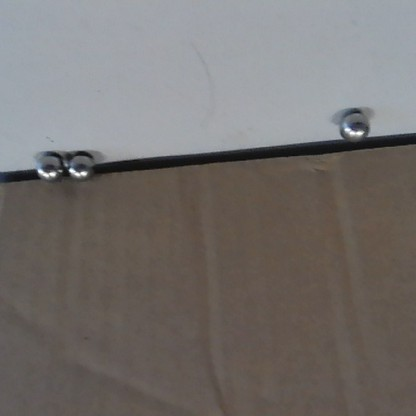ironball: (336, 106, 372, 142), (62, 147, 97, 183), (34, 151, 63, 181)
